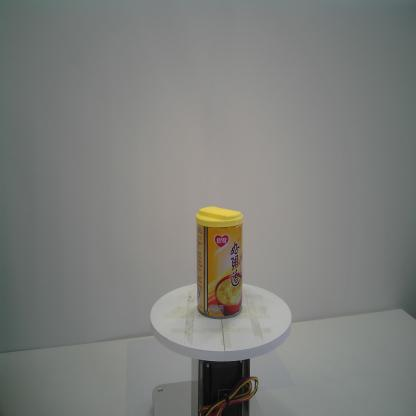Canned Food: (196, 206, 244, 320)
